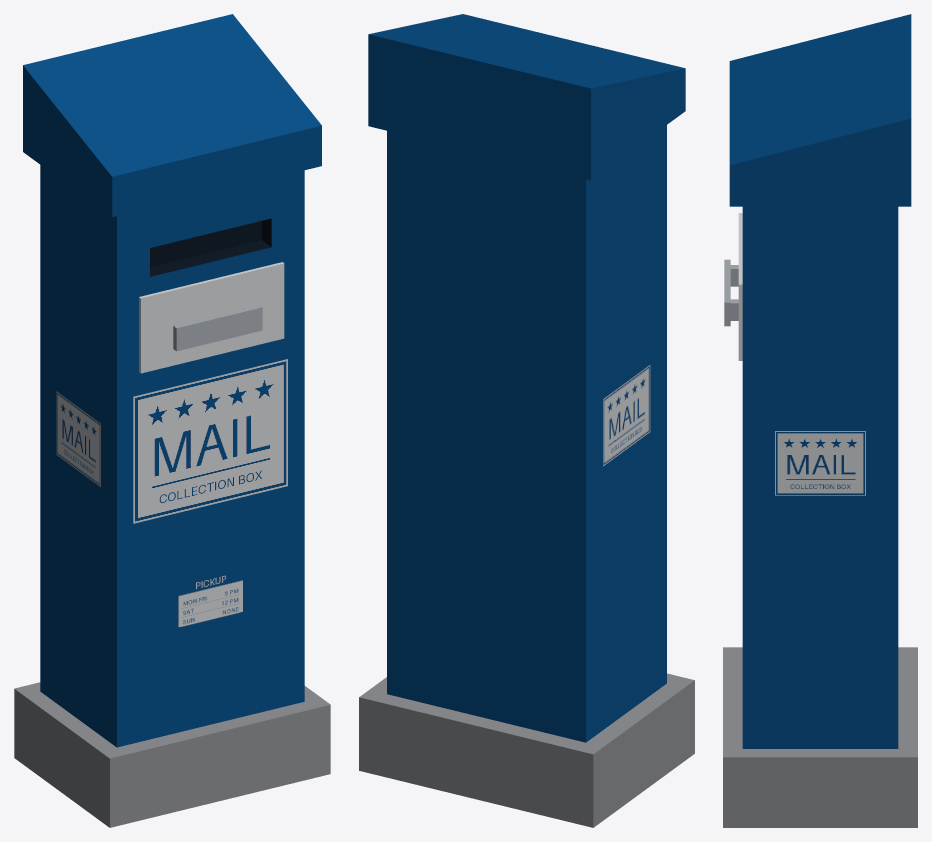
The model's file is prop_mailbox_usps.glb.
The picture shows the model from 3 angles, left to right: view 1: azimuth 30°, elevation 25°; view 2: azimuth 150°, elevation 25°; view 3: azimuth 270°, elevation 25°; orthographic projection. The views are drawn at different scales.
Visible parts, largest first — view 1: prop_mailbox_usps; view 2: prop_mailbox_usps; view 3: prop_mailbox_usps.
Boxes of the visible parts, left/top/right/bottom form: prop_mailbox_usps: left=14, top=14, right=330, bottom=827; prop_mailbox_usps: left=359, top=14, right=694, bottom=827; prop_mailbox_usps: left=723, top=14, right=917, bottom=827.
Size of the model in its own units: 0.4 by 1.2 by 0.3.
Materials: 1 (1 with a texture image).
